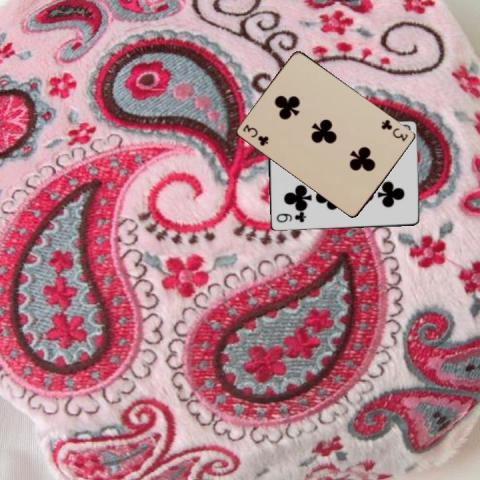3c: (378, 116, 409, 142), (240, 122, 271, 148)
9c: (273, 211, 307, 224)
